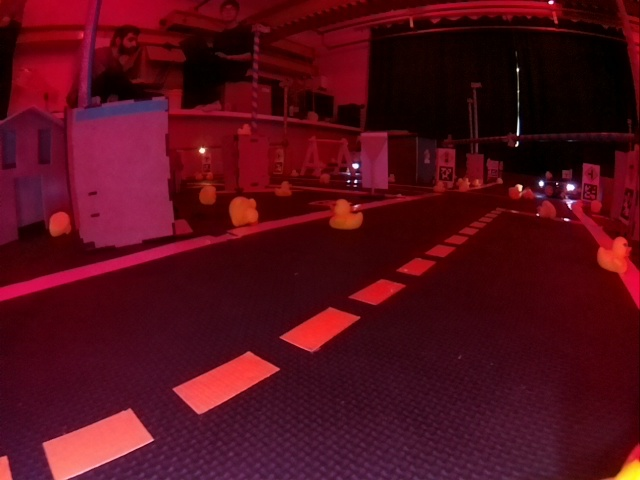Duckie: (597, 236, 629, 271), (331, 201, 363, 228), (230, 197, 258, 225), (49, 212, 71, 235), (200, 188, 218, 204), (537, 201, 553, 219), (275, 181, 289, 197), (523, 189, 534, 199), (512, 187, 520, 199)
Intersection sign: (584, 166, 598, 180)
QR code: (582, 184, 600, 202), (440, 167, 455, 182)
Signal sign: (440, 150, 455, 165)
